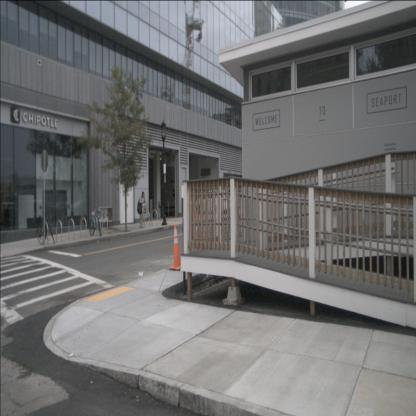cone: (170, 224, 182, 271), (167, 199, 169, 217)
